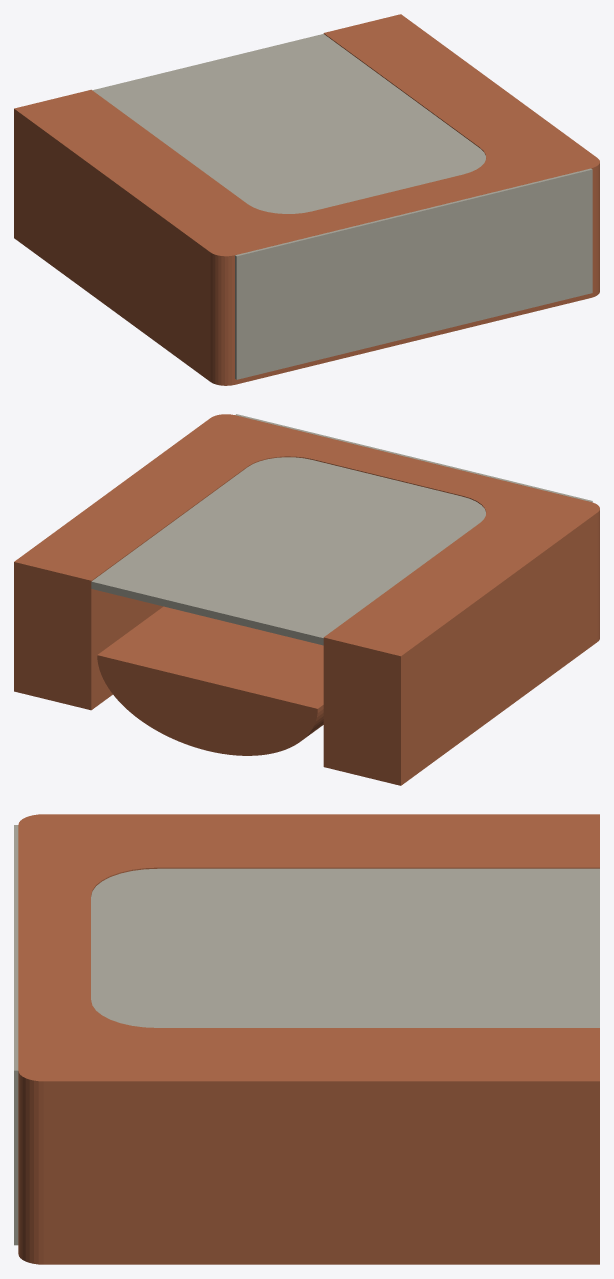
File: R04_Portal_Component.obj
The picture shows the model from 3 angles, top to bottom: view 1: azimuth 30°, elevation 25°; view 2: azimuth 150°, elevation 25°; view 3: azimuth 270°, elevation 25°; orthographic projection. The views are drawn at different scales.
Visible parts, largest first — view 1: portal_brick, finished_top_component_only, opaque_backing; view 2: portal_brick, opaque_backing, cashier_face, finished_top_component_only; view 3: portal_brick, opaque_backing, finished_top_component_only.
Part boxes in pixels (x1=…): portal_brick: x1=14, y1=14, x2=599, y2=385; finished_top_component_only: x1=235, y1=168, x2=592, y2=379; opaque_backing: x1=92, y1=34, x2=485, y2=213; portal_brick: x1=14, y1=414, x2=599, y2=785; opaque_backing: x1=91, y1=457, x2=485, y2=645; cashier_face: x1=97, y1=606, x2=323, y2=755; finished_top_component_only: x1=235, y1=414, x2=592, y2=502; portal_brick: x1=18, y1=814, x2=599, y2=1264; opaque_backing: x1=91, y1=868, x2=599, y2=1027; finished_top_component_only: x1=14, y1=825, x2=18, y2=1245.
Size of the model in its own units: 1 by 0.35 by 0.927.
